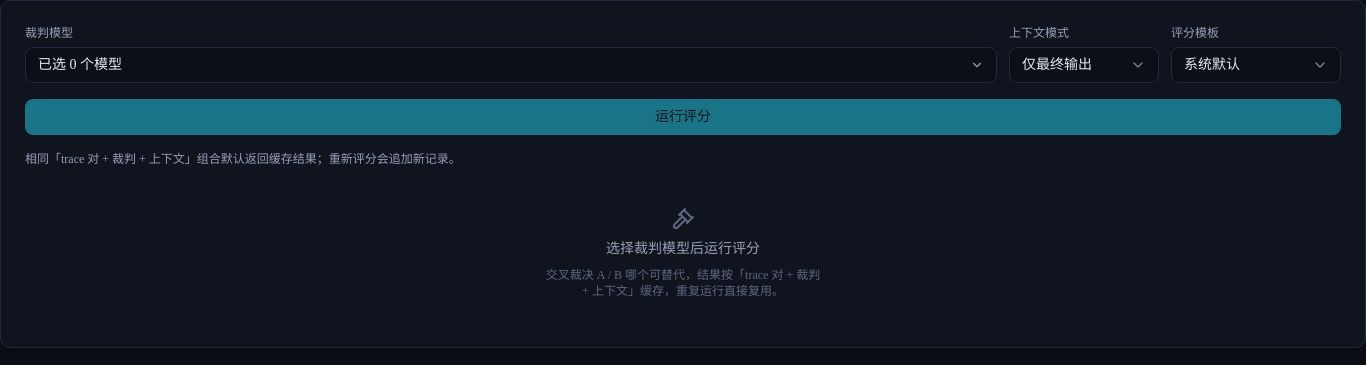
it: JudgePanel — 上下文模式 › offers all three context modes, including the new 工具输出对齐
This screenshot has width=1366, height=365.
Expected: the text "仅最终输出" is shown, 1022,55 -> 1092,75
Click the dropdown "仅最终输出": (1084, 65) 1009,47 -> 1159,83
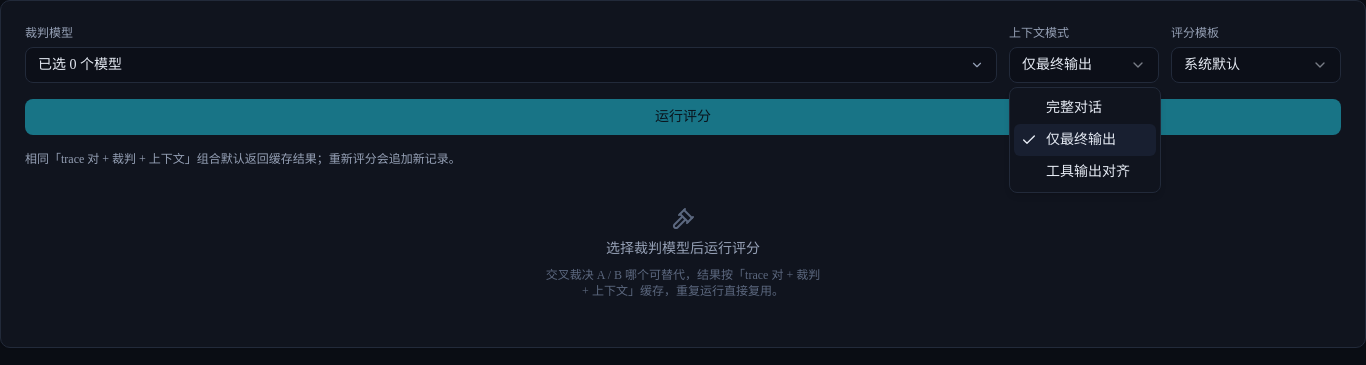
Expected: the text "完整对话" is shown, 1046,98 -> 1102,118
Expected: the text "工具输出对齐" is shown, 1046,162 -> 1130,182
